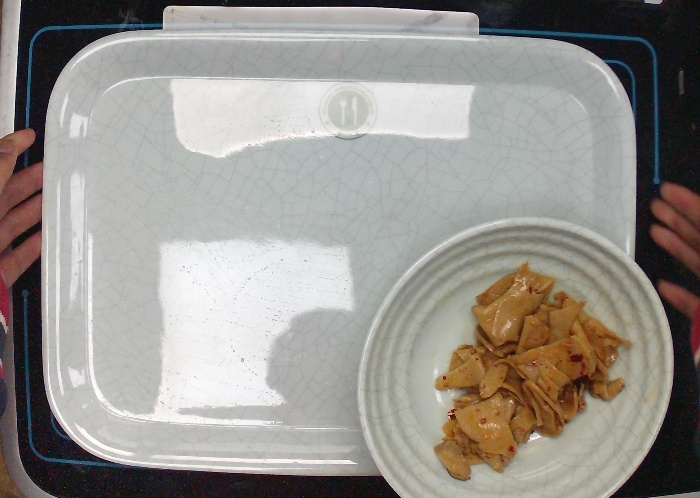JYsf-Da_Tang_Wan: (347, 206, 680, 498)
